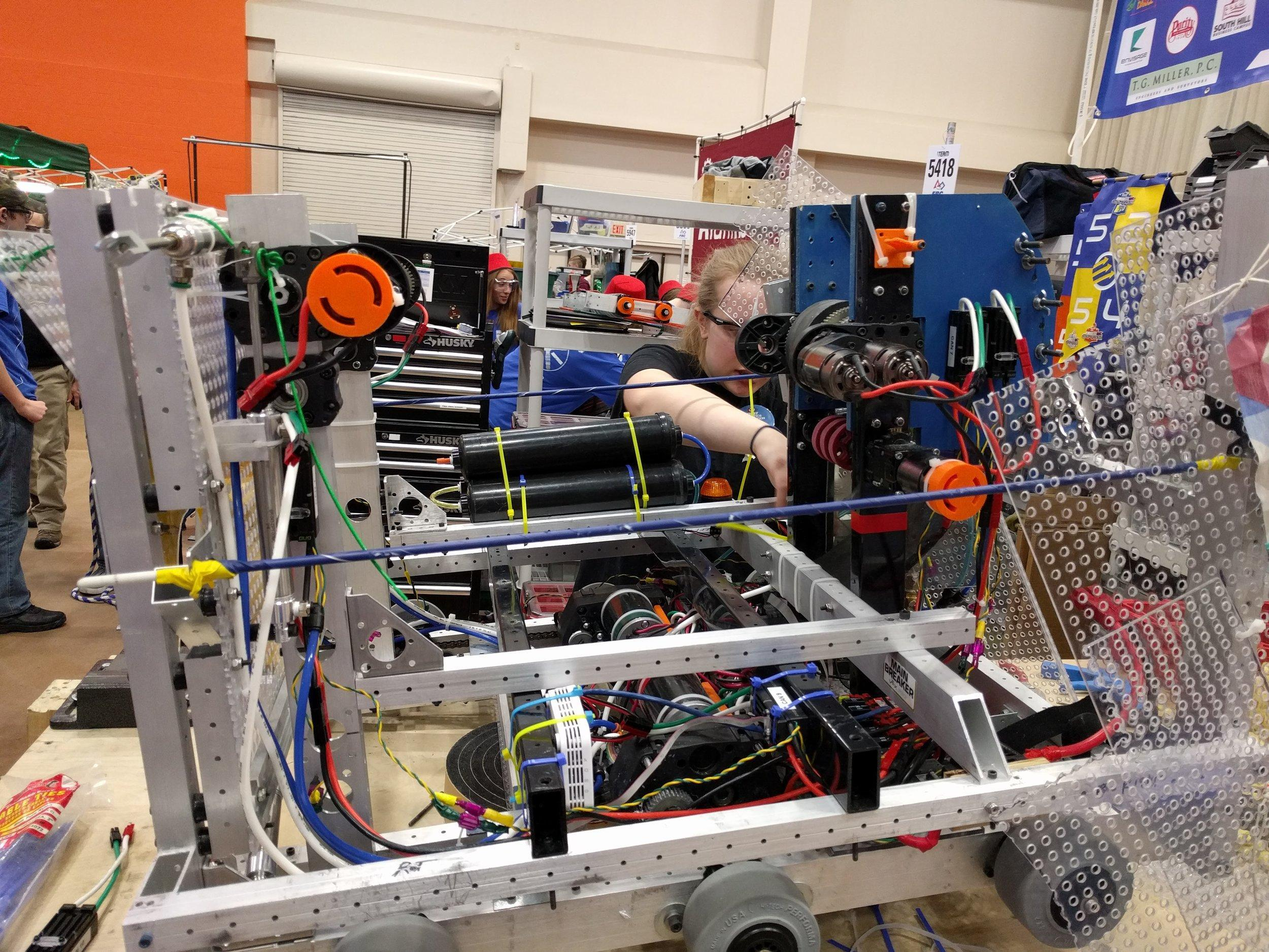robot: (55, 138, 1269, 952)
